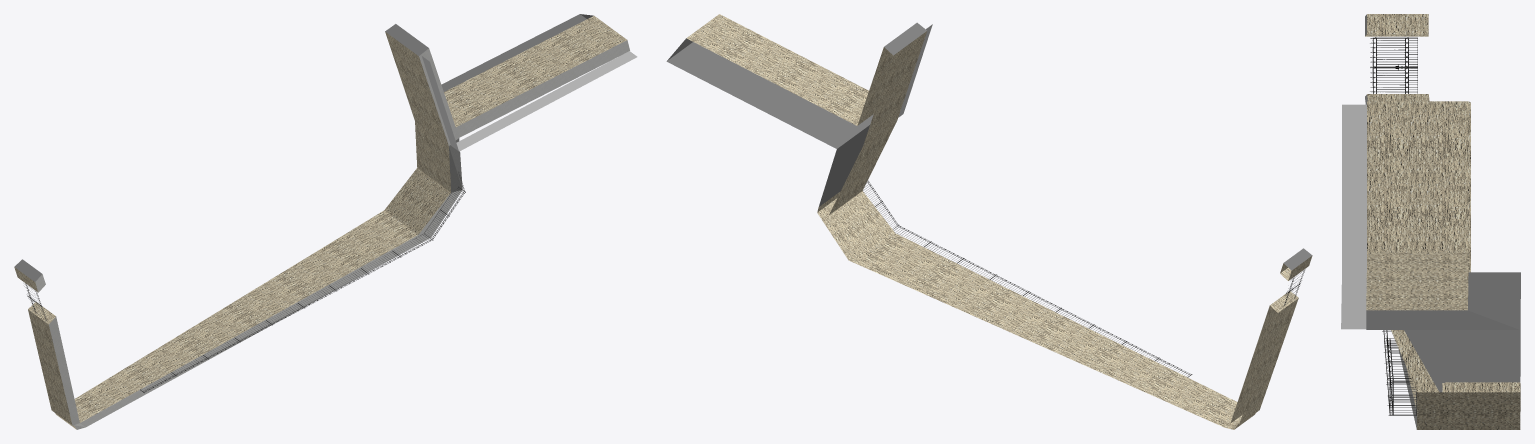
Rendered from Pikk_jalg_16_myyr-origo.obj.
3 views of the same model, side by side, from view 1: azimuth 30°, elevation 25°; view 2: azimuth 150°, elevation 25°; view 3: azimuth 270°, elevation 25° (orthographic). The views are drawn at different scales.
Parts seen in each view (by area): view 1: Pikk_jalg_16_myyr; view 2: Pikk_jalg_16_myyr; view 3: Pikk_jalg_16_myyr.
Part boxes in pixels (x1,y1,x2,y2): Pikk_jalg_16_myyr: (14, 14, 637, 429); Pikk_jalg_16_myyr: (666, 14, 1312, 429); Pikk_jalg_16_myyr: (1341, 14, 1520, 429).
Bounding box in the file's own units: 54.5 × 26.5 × 9.32.
